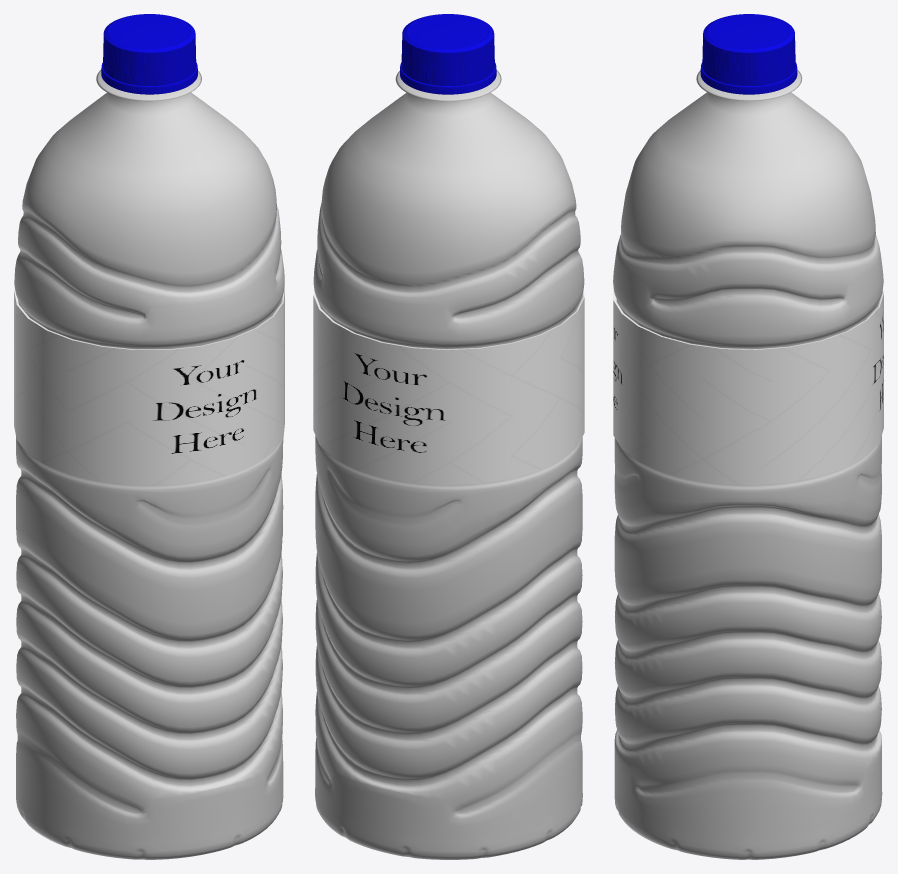
Rendered from Plastic Water bottle.glb.
3 renders of one model, left to right at view 1: azimuth 30°, elevation 25°; view 2: azimuth 150°, elevation 25°; view 3: azimuth 270°, elevation 25°, orthographic.
Parts seen in each view (by area): view 1: Circle, Poster_Poster_0, Circle.012; view 2: Circle, Poster_Poster_0, Circle.012; view 3: Circle, Poster_Poster_0, Circle.012.
Boxes of the visible parts, x1,y1,x2,y2 form: Circle: [14, 69, 284, 859]; Poster_Poster_0: [14, 287, 284, 485]; Circle.012: [101, 14, 197, 94]; Circle: [313, 70, 584, 859]; Poster_Poster_0: [313, 290, 584, 485]; Circle.012: [400, 14, 496, 94]; Circle: [613, 70, 883, 859]; Poster_Poster_0: [613, 286, 883, 484]; Circle.012: [700, 14, 797, 94].
Bounding box in the file's own units: 1 × 3.18 × 1.
Materials: 4 (1 with a texture image).
